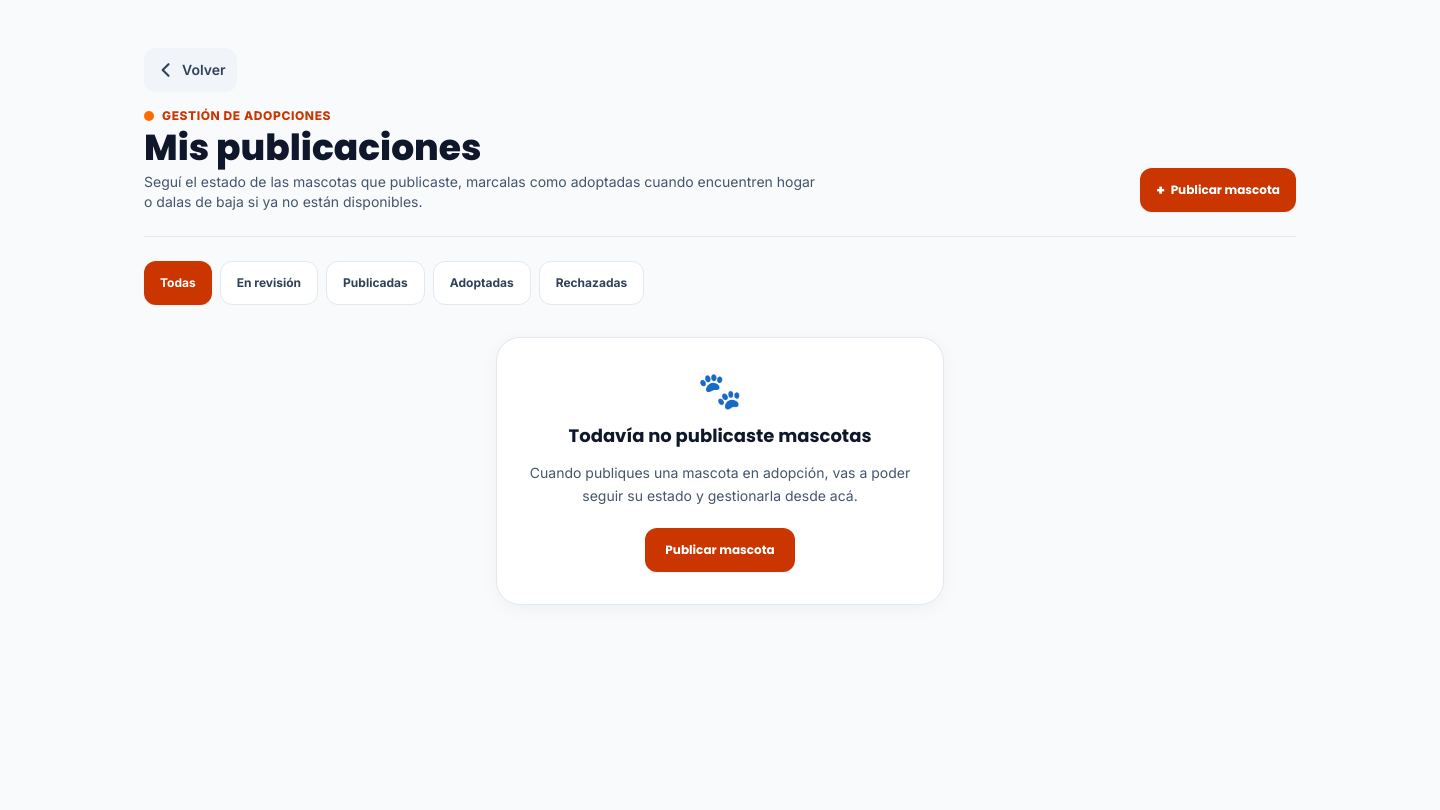
Test: MyPetsView › filtra por estado, maneja estado vacío y permite volver a Todas
This screenshot has width=1440, height=810.
Expected: the heading "Todavía no publicaste mascotas" is shown, top-left (569, 423), bottom-right (872, 448)
Click the tab "Rechazadas": (591, 283) top-left (539, 261), bottom-right (644, 305)
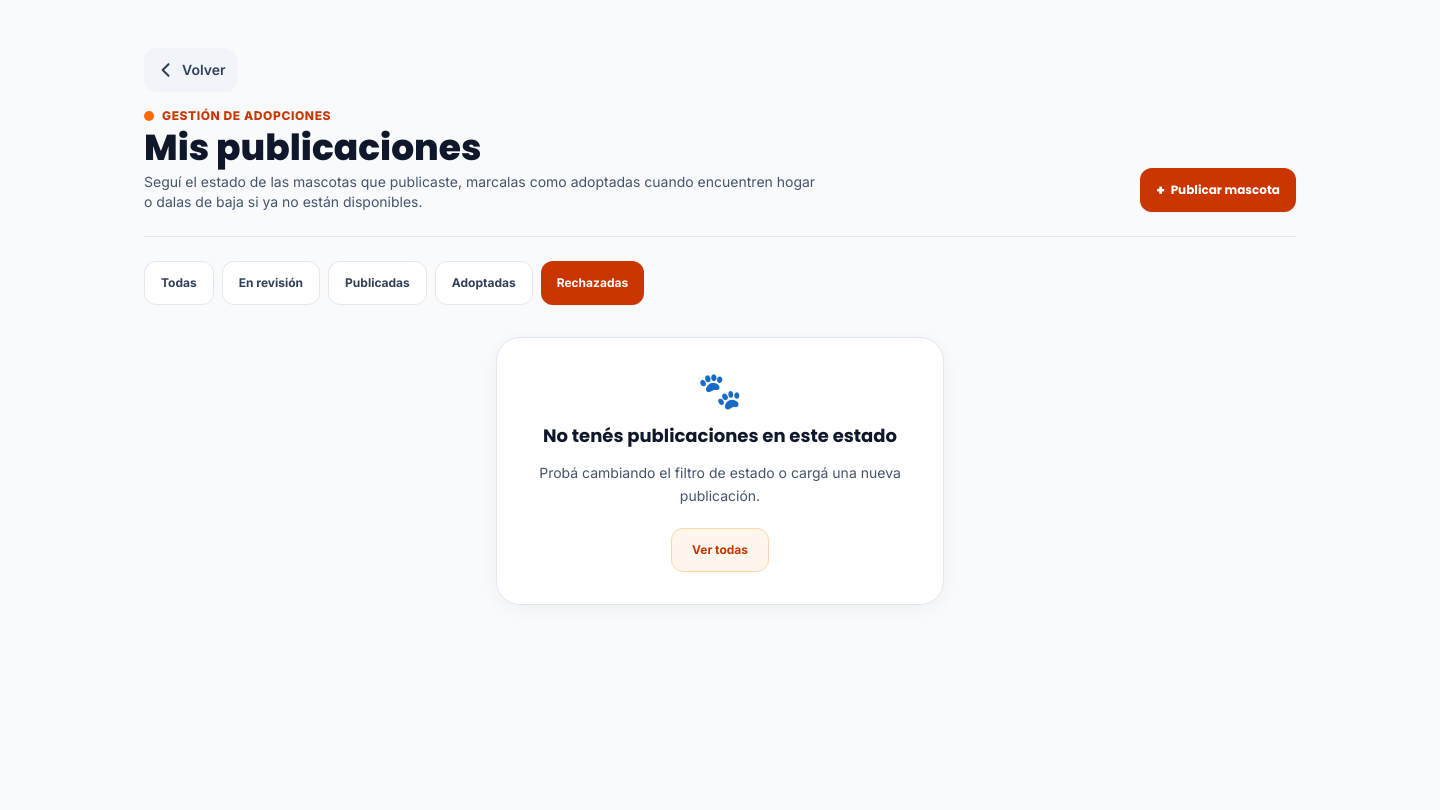
Now the heading "No tenés publicaciones en este estado" is shown, box top-left (529, 422), bottom-right (911, 450)
Click the button "Ver todas": (720, 550) top-left (671, 528), bottom-right (769, 572)
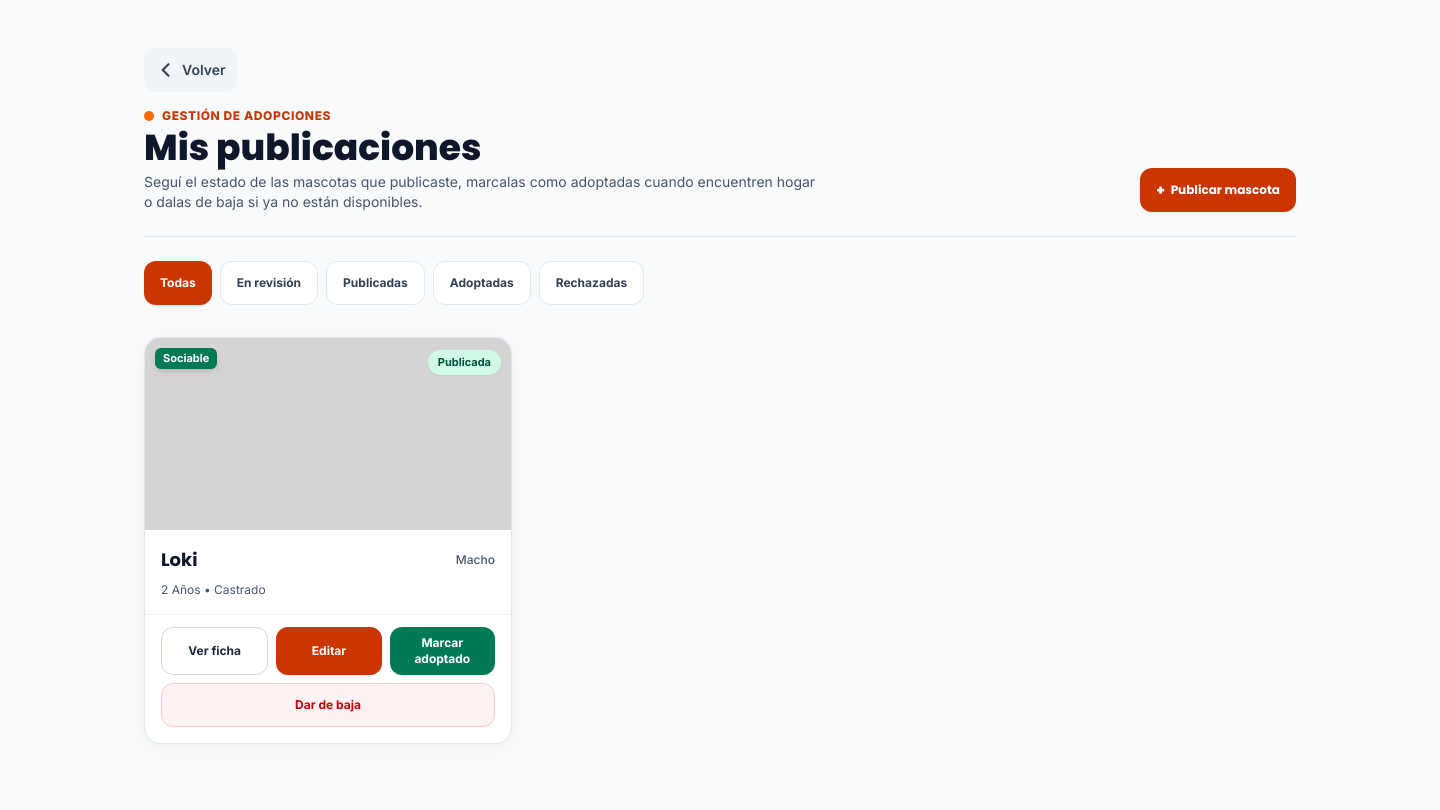
Now the heading "Loki" is shown, box top-left (161, 546), bottom-right (198, 574)
